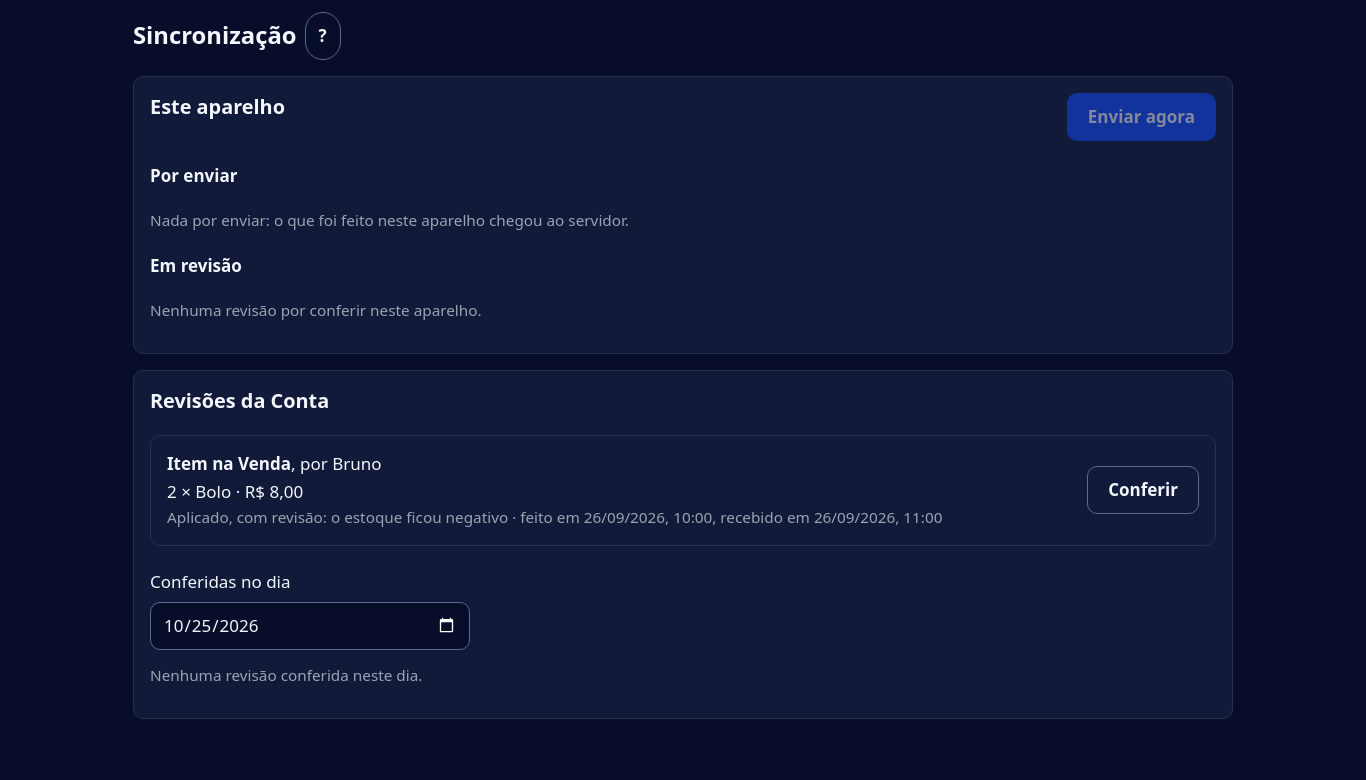
sincronização na tela › mostra ao administrador as revisões da Conta com o autor, e confere no servidor
Expected: the text ", por Bruno" is shown, 167,452 -> 942,529
Expected: the text "2 × Bolo · R$ 8,00" is shown, 167,480 -> 303,503
Click the button "Conferir" at (1143, 490), box 1087,466 -> 1199,514
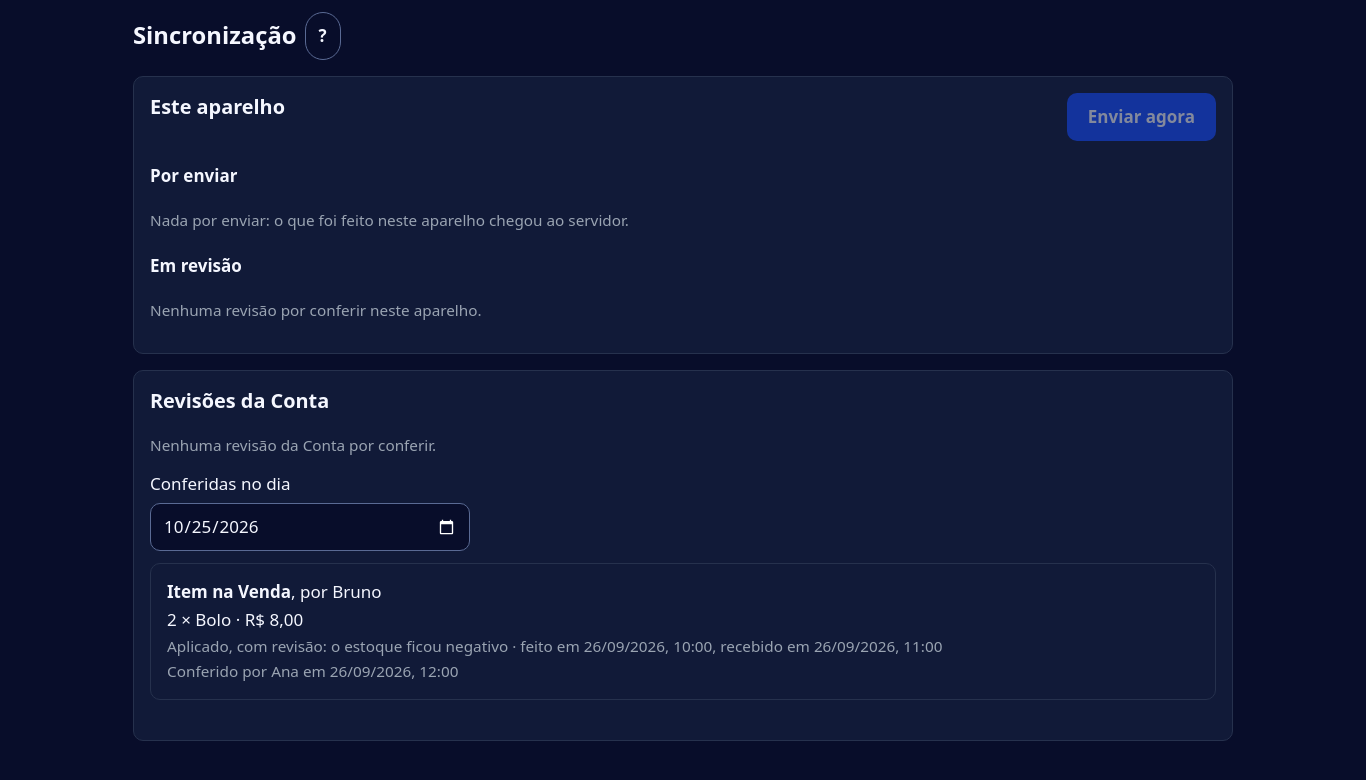
Now the text "Conferido por Ana em 26/09/2026, 12:00" is shown, box 167,661 -> 458,681
Now the text "Nenhuma revisão da Conta por conferir." is shown, box 150,435 -> 436,455
